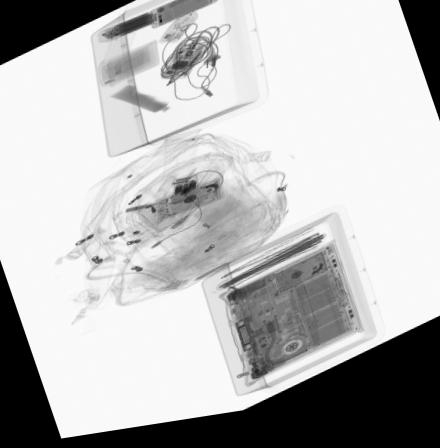Powerbank: (100, 13, 158, 48)
